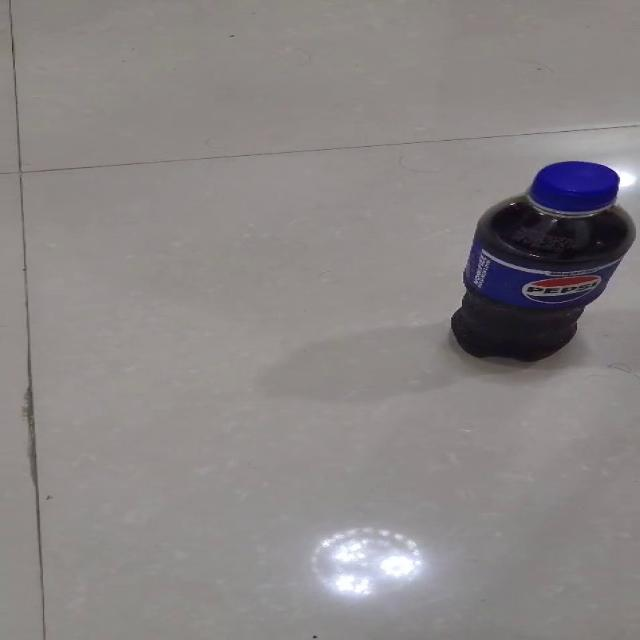plastic: (449, 160, 636, 362)
